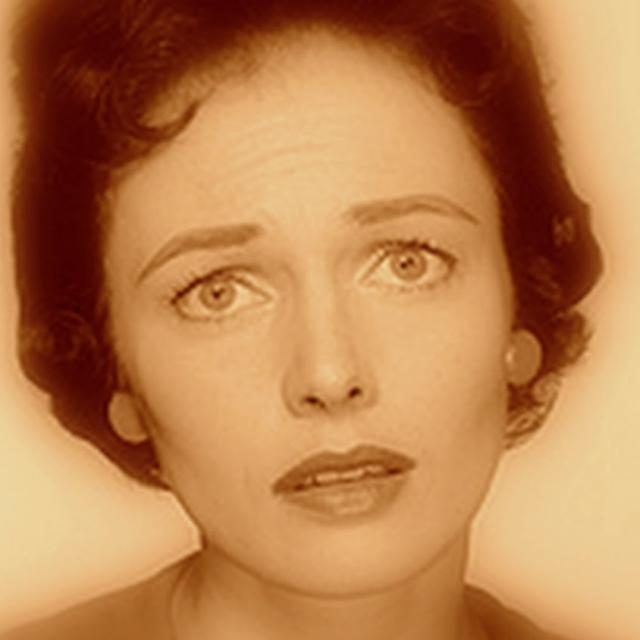Depress: (105, 33, 516, 599)
